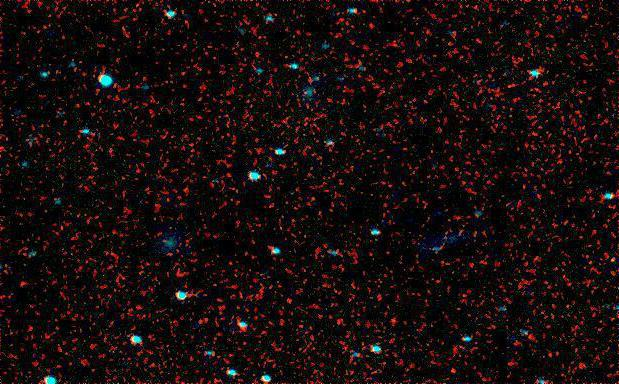star: (436, 352, 466, 382)
